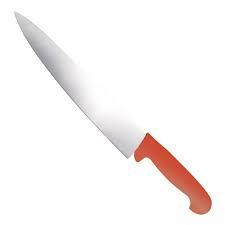Knife: (13, 9, 212, 214)
